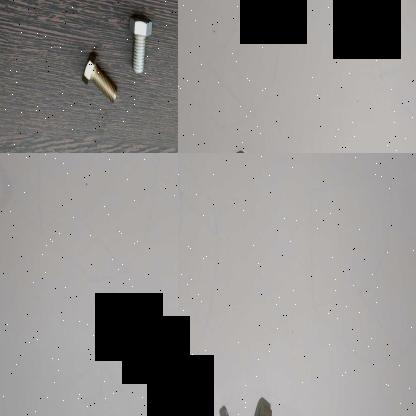Bolts: (79, 47, 118, 104), (121, 12, 154, 78)
NUTS: (136, 310, 162, 354), (100, 303, 124, 344), (248, 394, 276, 416), (165, 319, 178, 355), (216, 396, 235, 416)
